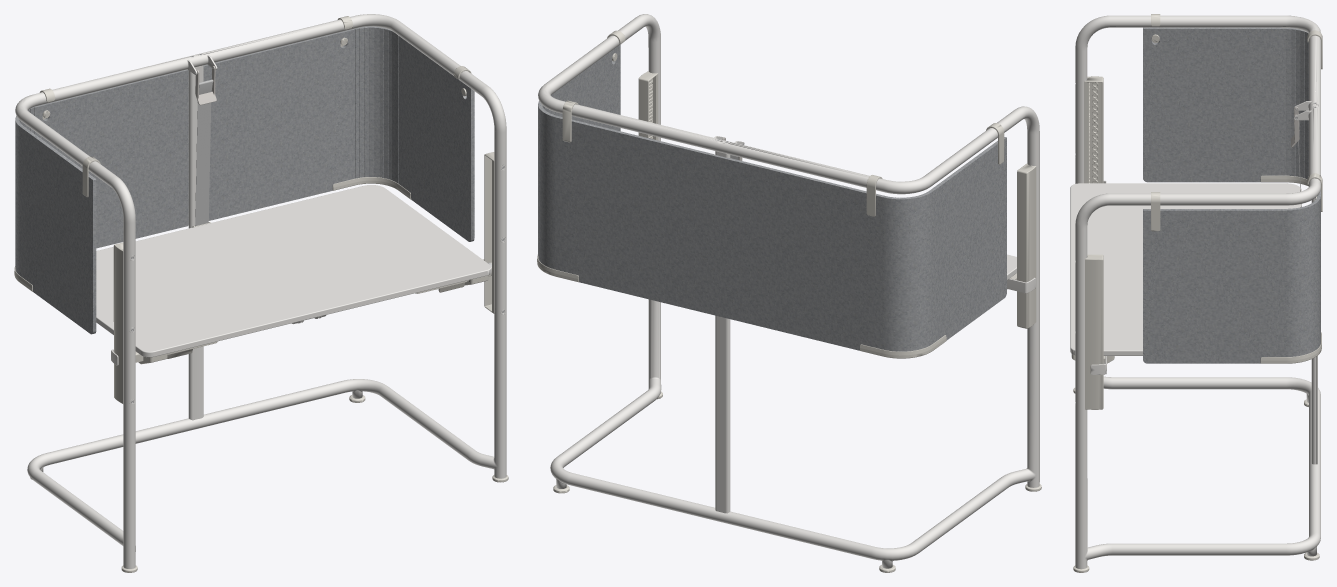
Rendered from vitra-scout-work-9746256.optimized.glb.
3 renders of one model, left to right at view 1: azimuth 30°, elevation 25°; view 2: azimuth 150°, elevation 25°; view 3: azimuth 270°, elevation 25°, orthographic. The views are drawn at different scales.
Visible parts, largest first — view 1: SCOUT_WORK_SCREEN, SCOUT_WORK_TABLETOP, SCOUT_FRAME_HOLDER, SCOUT_GLIDE, SCOUT_WORK_BELT_H74; view 2: SCOUT_WORK_SCREEN, SCOUT_FRAME_HOLDER, SCOUT_GLIDE; view 3: SCOUT_WORK_SCREEN, SCOUT_FRAME_HOLDER, SCOUT_WORK_TABLETOP, SCOUT_GLIDE.
Boxes of the visible parts, x1,y1,x2,y2 form: SCOUT_WORK_SCREEN: (15,26,474,334); SCOUT_WORK_TABLETOP: (96,185,491,357); SCOUT_FRAME_HOLDER: (15,14,506,568); SCOUT_GLIDE: (14,16,508,572); SCOUT_WORK_BELT_H74: (195,79,314,319); SCOUT_WORK_SCREEN: (538,44,1006,351); SCOUT_FRAME_HOLDER: (538,14,1039,568); SCOUT_GLIDE: (537,30,1041,572); SCOUT_WORK_SCREEN: (1143,27,1320,363); SCOUT_FRAME_HOLDER: (1075,15,1320,569); SCOUT_WORK_TABLETOP: (1070,183,1301,355); SCOUT_GLIDE: (1071,14,1322,572).
Size of the model in its own units: 1.37 by 1.31 by 0.7909.
Materials: 11 (6 with a texture image).
